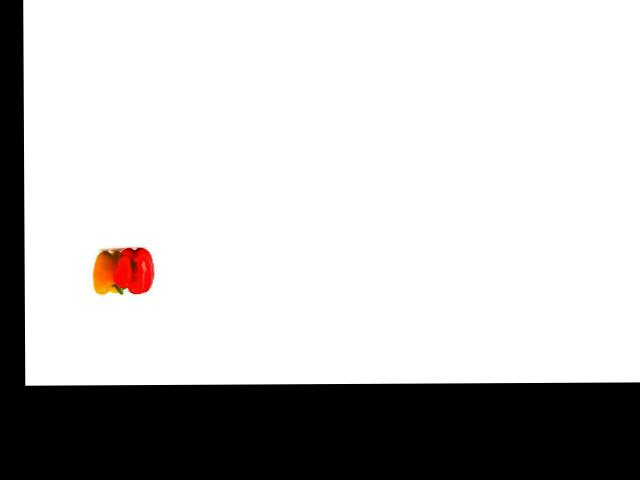bell_pepper: (91, 247, 128, 293)
